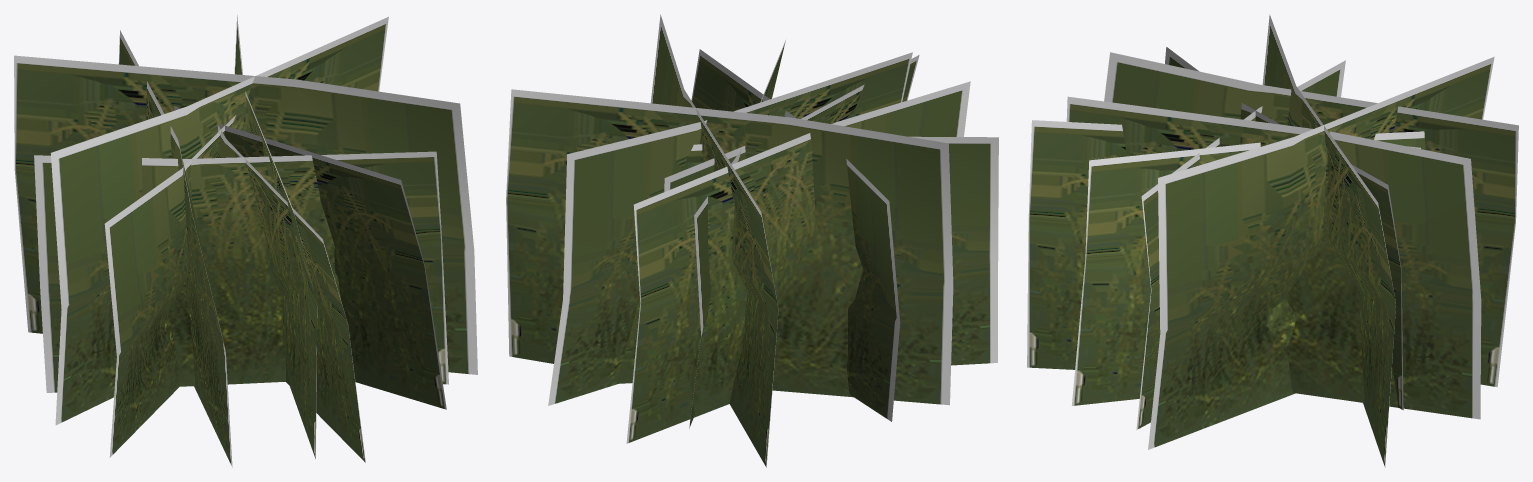
Rendered from grass.glb.
The picture shows the model from 3 angles, left to right: view 1: azimuth 30°, elevation 25°; view 2: azimuth 150°, elevation 25°; view 3: azimuth 270°, elevation 25°; orthographic projection. The views are drawn at different scales.
Visible parts, largest first — view 1: grass 3; view 2: grass 3; view 3: grass 3.
Part boxes in pixels (x1,y1,x2,y2): grass 3: [14, 15, 477, 467]; grass 3: [506, 14, 998, 467]; grass 3: [1027, 14, 1518, 467].
Size of the model in its own units: 2.05 by 1.4 by 2.26.
Materials: 1 (1 with a texture image).
